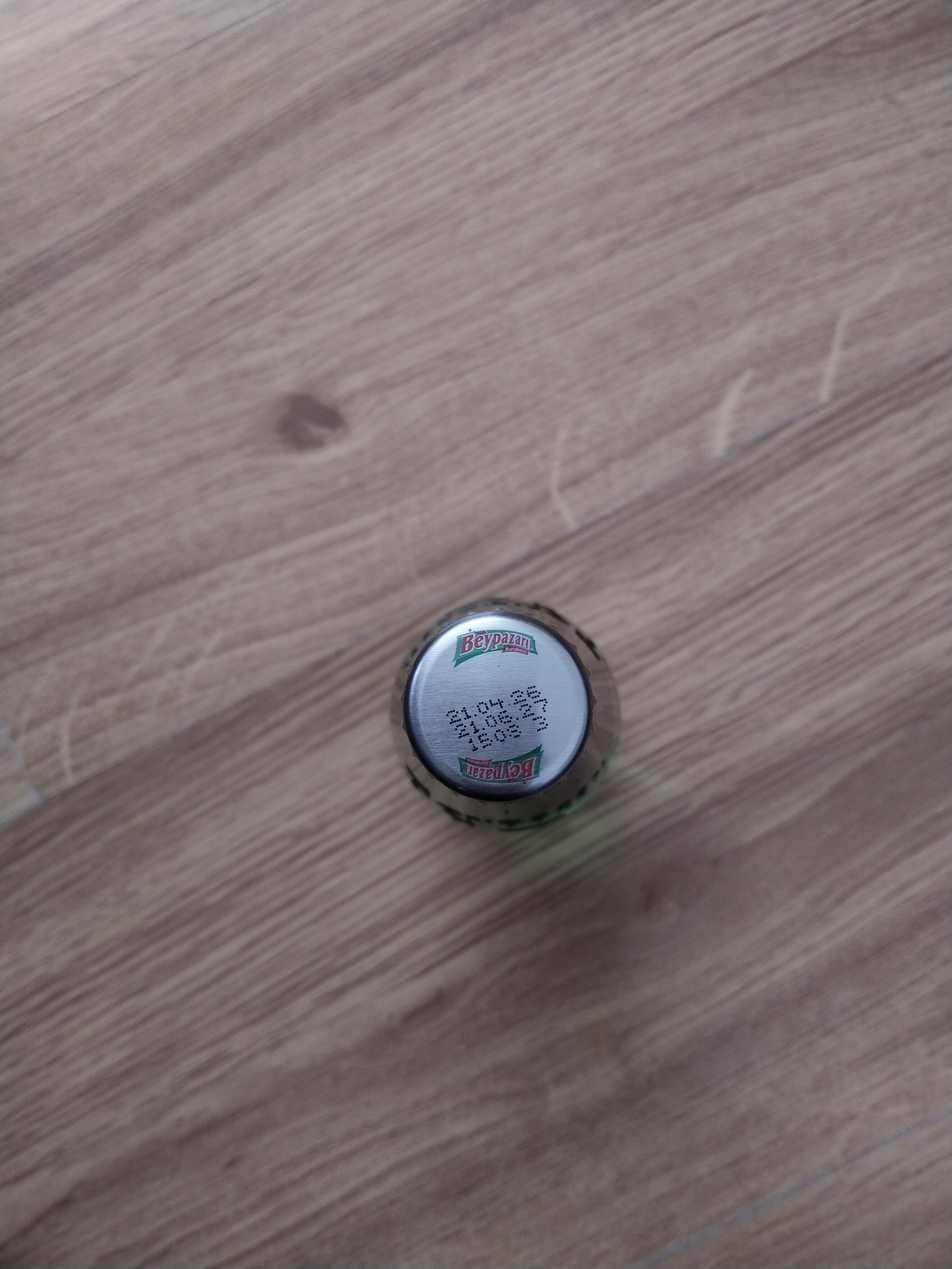beypazari_maden_suyu: (404, 612, 616, 824)
